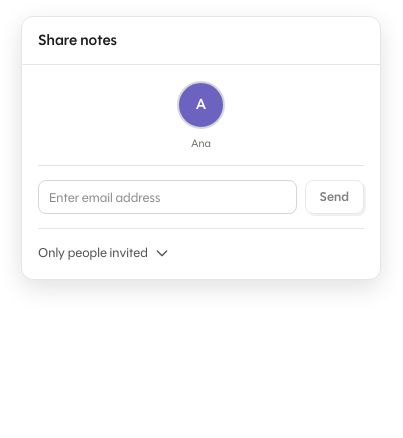
Test case: ShareMeetingPopover › shares workspace immediately and exposes a copy link
Click the button "Only people invited": (104, 253) [38,243,170,262]
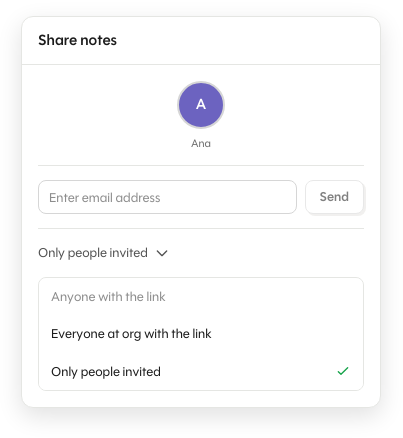
Click the button "Everyone at org with the link": (201, 334) [39,315,363,352]
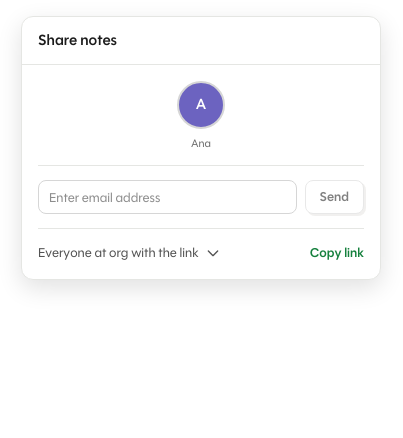
Expected: the button with class "copy-link" is shown, [310,243,364,262]
